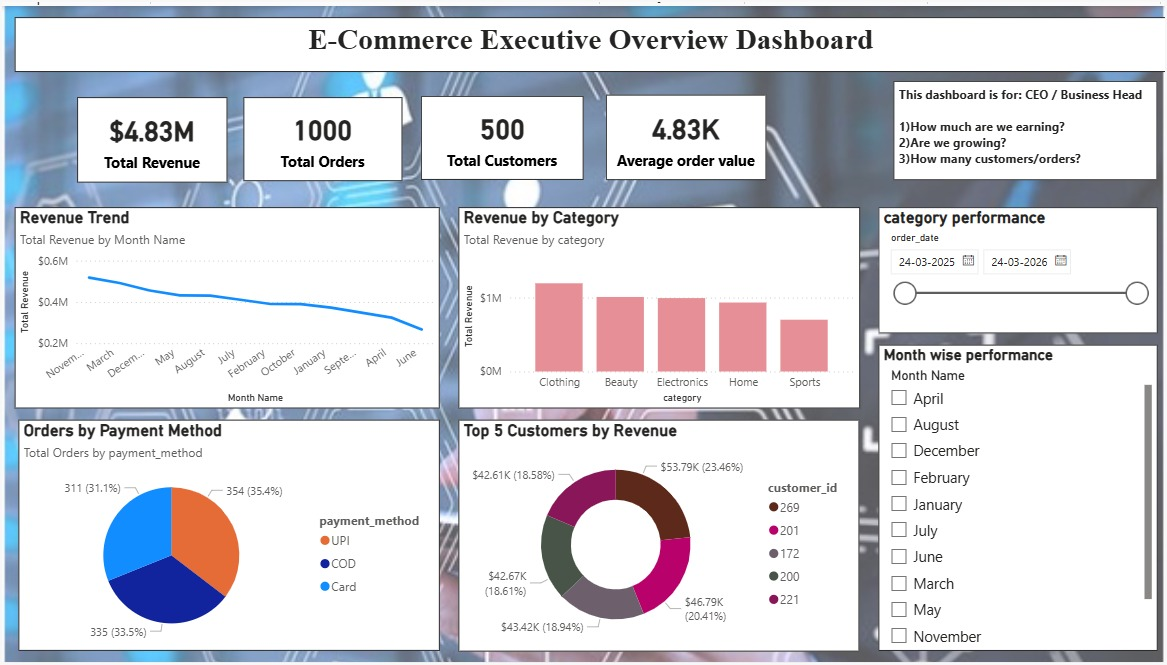

What the dashboard file says about the page in this screenshot:
{"tool":"powerbi","page":{"name":"E-Commerce Executive Overview Dashboard","canvas":[1280,720],"ordinal":0},"visuals":[{"type":"card","fields":{"Values":["order_items.Sum of Revenue"]},"box":[83.7,100.2,164.7,93.3],"z":0},{"type":"card","fields":{"Values":["orders.Total Orders"]},"box":[266.2,100.2,174.3,91.9],"z":1000},{"type":"card","fields":{"Values":["customers.Total Customers"]},"box":[461.1,98.8,178.4,91.9],"z":2000},{"type":"card","fields":{"Values":["orders.Average of value"]},"box":[664.2,97.4,175.6,93.3],"z":3000},{"type":"lineChart","title":"Revenue Trend","fields":{"Category":["orders.Month Name"],"Y":["order_items.Sum of Revenue"]},"box":[15.1,220.9,466.6,220.9],"z":4000},{"type":"clusteredColumnChart","title":"Revenue by Category","fields":{"Category":["products.category"],"Y":["order_items.Sum of Revenue"]},"box":[502.2,220.9,440.5,220.9],"z":5000},{"type":"pieChart","title":"Orders by Payment Method","fields":{"Category":["orders.payment_method"],"Y":["orders.Total Orders"]},"box":[19.2,454.2,462.4,253.9],"z":6000},{"type":"textbox","box":[15.1,12.3,1265.2,60.4],"z":7000},{"type":"textbox","box":[979.8,82.3,289.5,108.4],"z":8000},{"type":"slicer","title":"category performance","fields":{"Values":["orders.order_date"]},"box":[963.3,220.9,306,138.6],"z":9000},{"type":"slicer","title":"Month wise performance","fields":{"Values":["orders.Month Name"]},"box":[963.3,371.9,306,336.2],"z":10000},{"type":"donutChart","title":"Top 5 Customers by Revenue","fields":{"Y":["order_items.Total Revenue"],"Category":["customers.customer_id"]},"box":[502,454,440,254],"z":10001}]}

Visuals, with their boxes in screenshot pixels (x1, y1, x2, y2), scaled from the page's 1280x720 canvas onto the 1167x665 screenshot:
card - order_items.Sum of Revenue: {"x1": 76, "y1": 93, "x2": 226, "y2": 179}
card - orders.Total Orders: {"x1": 243, "y1": 93, "x2": 402, "y2": 177}
card - customers.Total Customers: {"x1": 420, "y1": 91, "x2": 583, "y2": 176}
card - orders.Average of value: {"x1": 606, "y1": 90, "x2": 766, "y2": 176}
"Revenue Trend" lineChart: {"x1": 14, "y1": 204, "x2": 439, "y2": 408}
"Revenue by Category" clusteredColumnChart: {"x1": 458, "y1": 204, "x2": 859, "y2": 408}
"Orders by Payment Method" pieChart: {"x1": 18, "y1": 420, "x2": 439, "y2": 654}
textbox: {"x1": 14, "y1": 11, "x2": 1166, "y2": 67}
textbox: {"x1": 893, "y1": 76, "x2": 1157, "y2": 176}
"category performance" slicer: {"x1": 878, "y1": 204, "x2": 1157, "y2": 332}
"Month wise performance" slicer: {"x1": 878, "y1": 343, "x2": 1157, "y2": 654}
"Top 5 Customers by Revenue" donutChart: {"x1": 458, "y1": 419, "x2": 859, "y2": 654}
